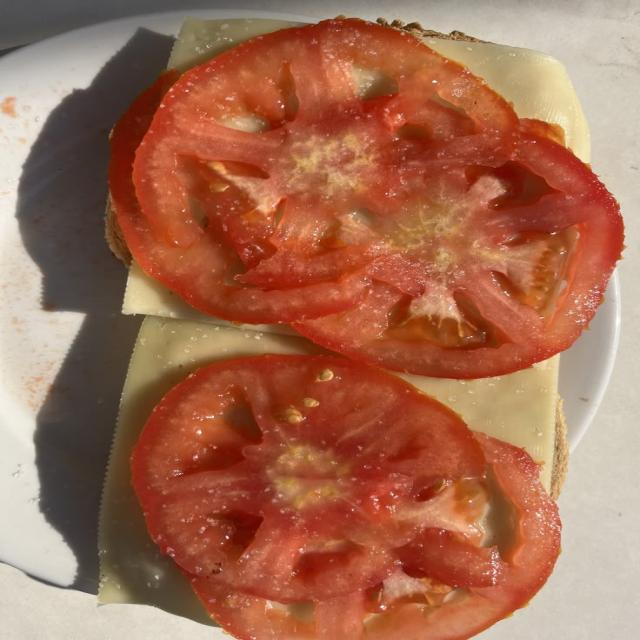cheese slice: (98, 316, 318, 624), (405, 356, 568, 497), (423, 35, 588, 161), (168, 17, 294, 70), (123, 267, 224, 324)
sliced tomatoe: (116, 21, 622, 377), (124, 20, 517, 322), (132, 356, 485, 602), (296, 124, 623, 378), (187, 434, 560, 639), (109, 70, 367, 324)
